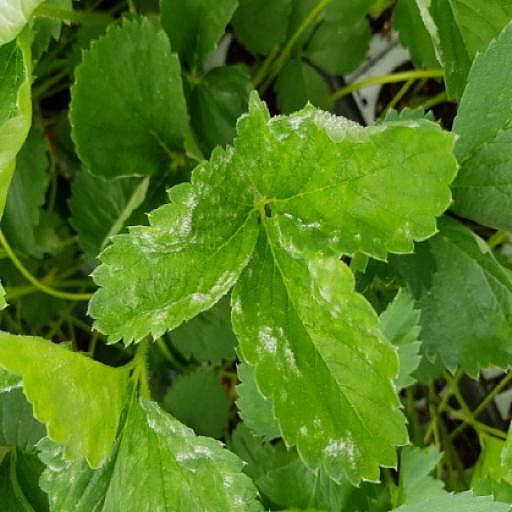Powdery Mildew Leaf: (227, 24, 412, 295), (231, 248, 463, 423), (85, 163, 261, 368), (34, 0, 266, 135)
